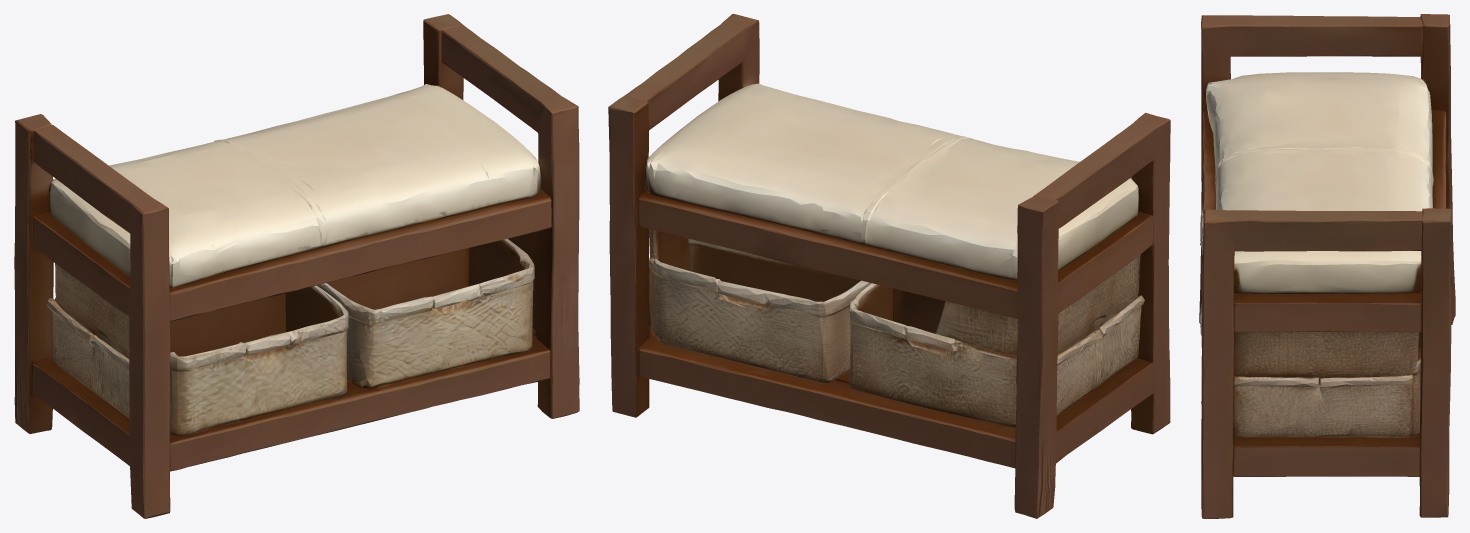
The model's file is 鞋柜凳.glb.
3 renders of one model, left to right at view 1: azimuth 30°, elevation 25°; view 2: azimuth 150°, elevation 25°; view 3: azimuth 270°, elevation 25°, orthographic. The views are drawn at different scales.
Parts seen in each view (by area): view 1: model; view 2: model; view 3: model.
Boxes of the visible parts, x1,y1,x2,y2 form: model: (14,14,579,518); model: (608,14,1170,518); model: (1199,14,1455,518).
Bounding box in the file's own units: 1.9 × 1.27 × 0.9887.
Materials: 1 (1 with a texture image).
